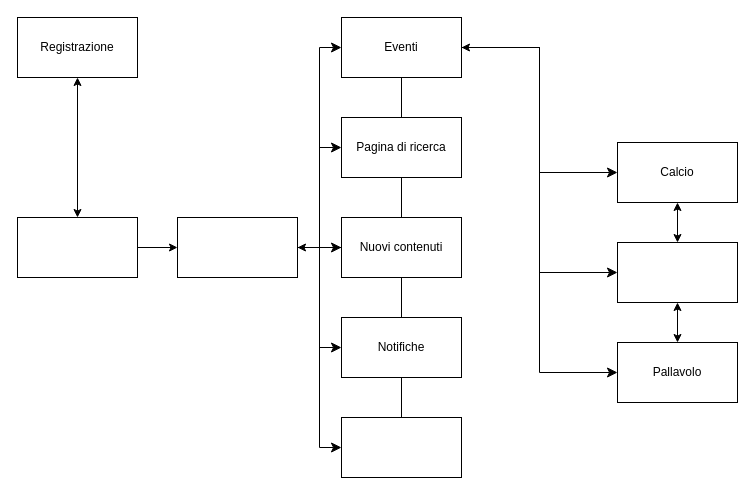
This 755x495 diagram has some shape labels left out. Each missing label, with the centre of its shape:
Basket: point (677, 272)
Login: point (77, 247)
Pagina principale Home: point (237, 247)
profilo utente: point (401, 447)
